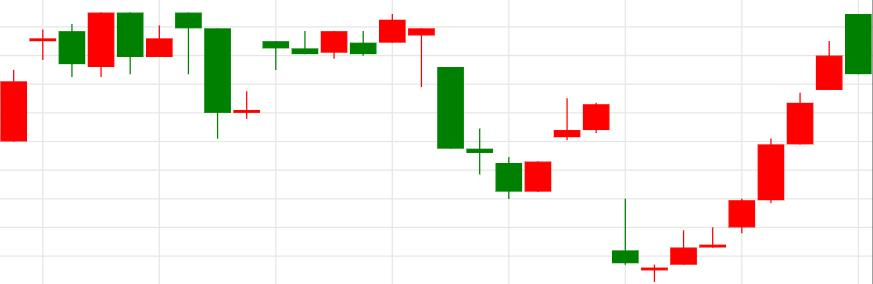three_white_soldiers_rise: (583, 93, 814, 281)
